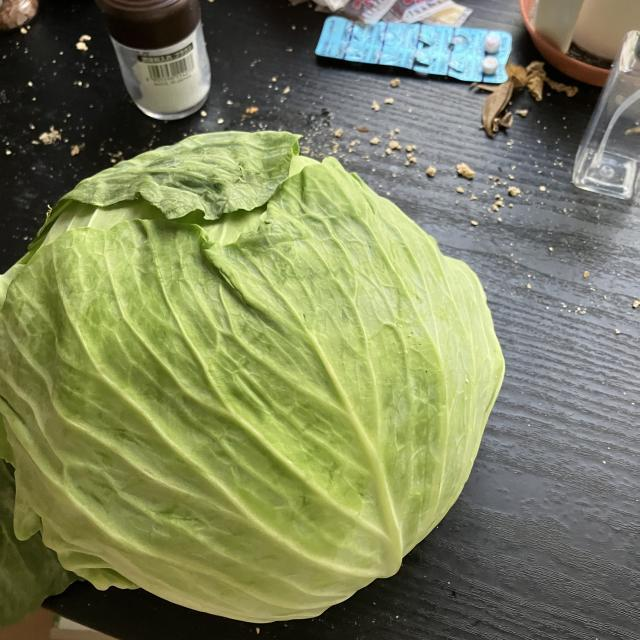cabbage: (1, 128, 510, 633)
